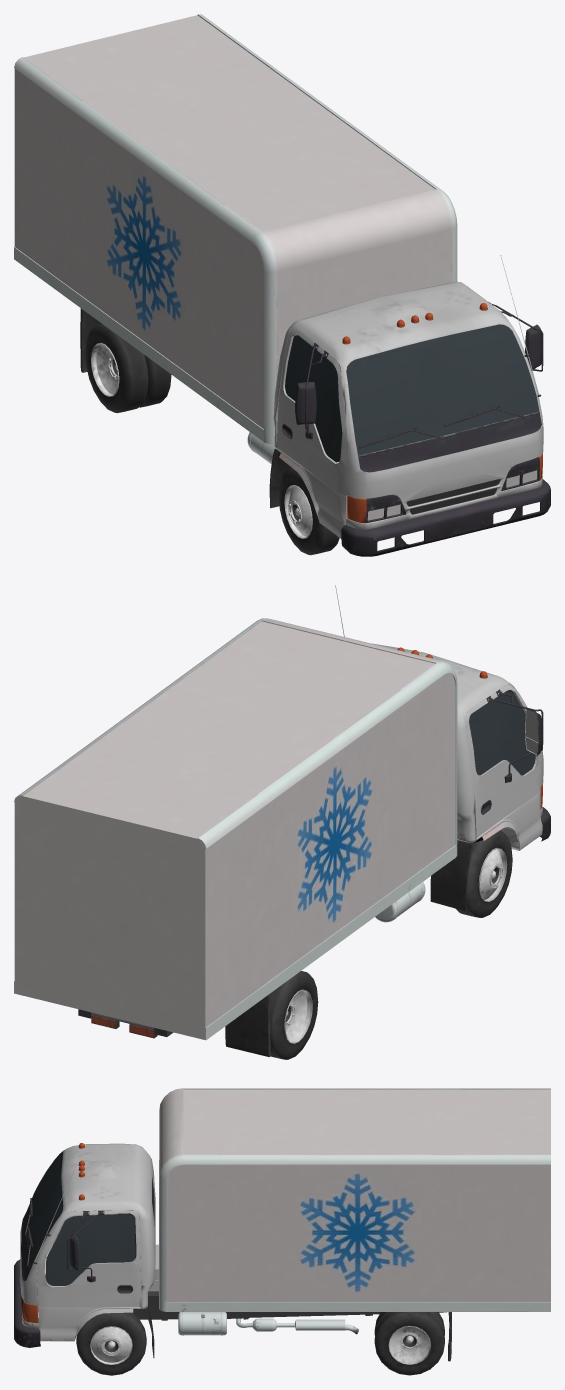
Rendered from yuk-mashina.glb.
3 views of the same model, one above another, from view 1: azimuth 30°, elevation 25°; view 2: azimuth 150°, elevation 25°; view 3: azimuth 270°, elevation 25° (orthographic). The views are drawn at different scales.
Parts seen in each view (by area): view 1: Truck_TruckMt_0, Truck_glassmt_0; view 2: Truck_TruckMt_0, Truck_glassmt_0; view 3: Truck_TruckMt_0, Truck_glassmt_0.
Boxes of the visible parts, <box> form: Truck_TruckMt_0: <box>14,14,550,556</box>; Truck_glassmt_0: <box>285,324,539,462</box>; Truck_TruckMt_0: <box>14,585,550,1059</box>; Truck_glassmt_0: <box>469,690,535,775</box>; Truck_TruckMt_0: <box>14,1088,550,1375</box>; Truck_glassmt_0: <box>27,1151,154,1285</box>.
Bounding box in the file's own units: 15.74 × 17.49 × 38.83.
2 materials, 1 textured.
